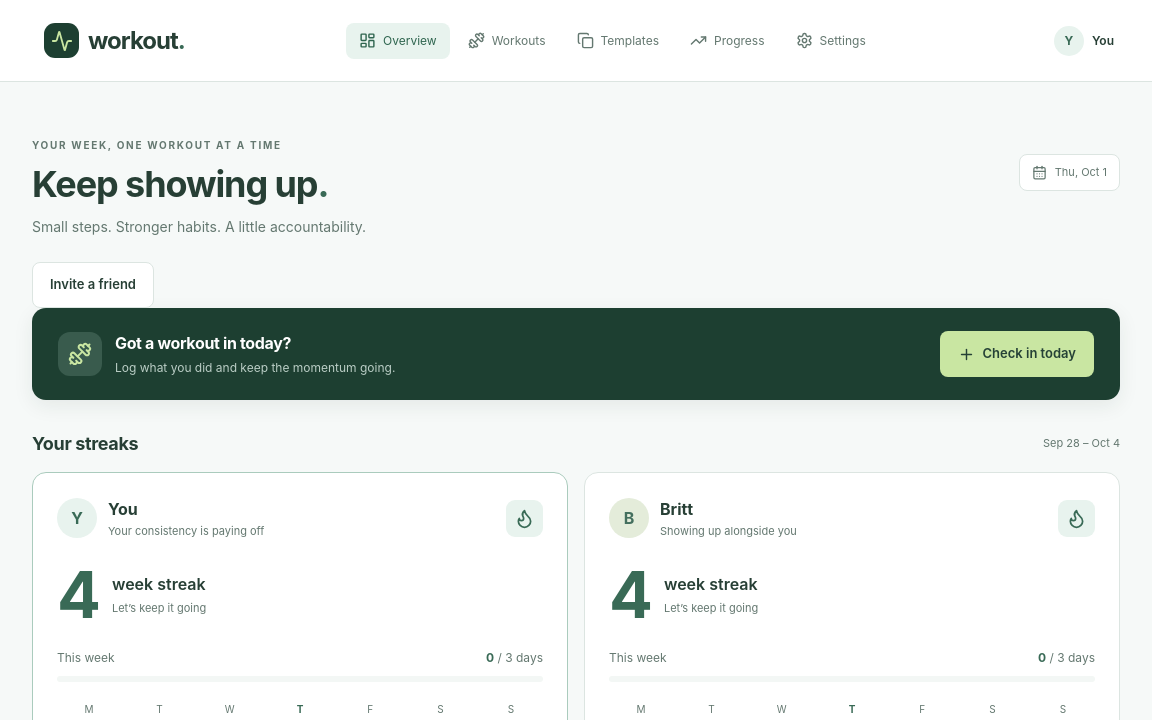
Test: sign-out clears the private view without reloading protected data
Click the button "Settings" at [831, 40], box x1=782 y1=22 x2=879 y2=58
(page scrolled)
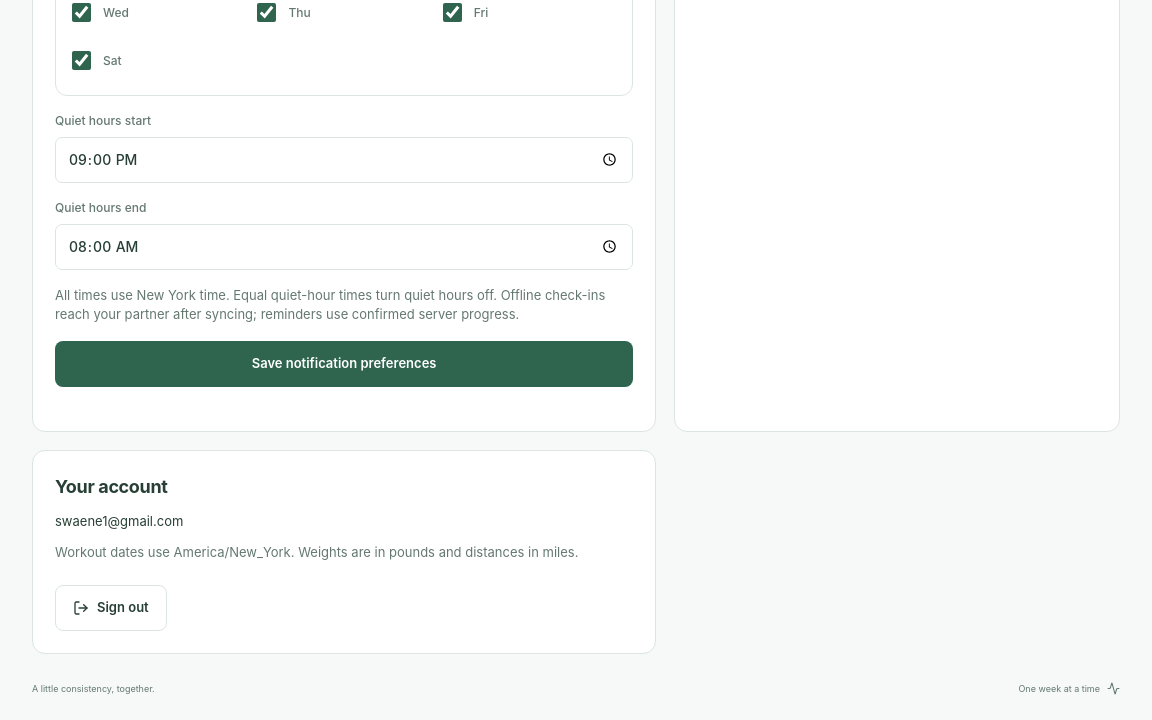
Click the button "Sign out" at [111, 608], box x1=55 y1=585 x2=167 y2=631
(page scrolled)
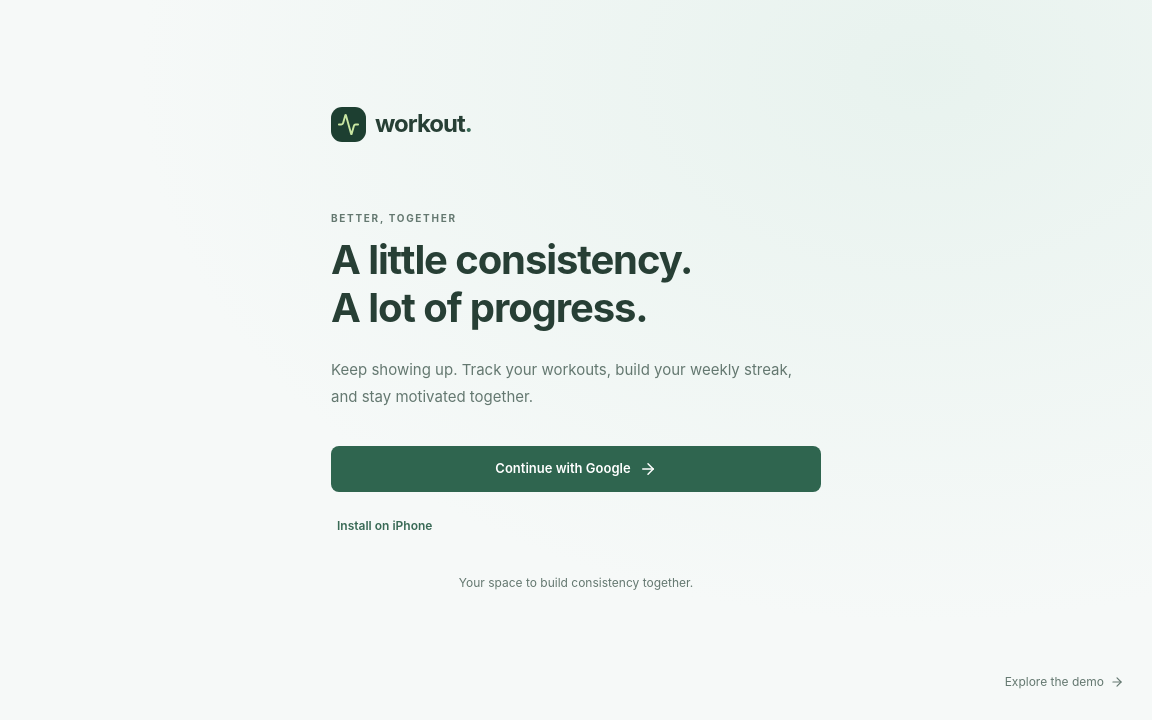
Expected: the link "Continue with Google" is shown, x1=331 y1=446 x2=821 y2=492
